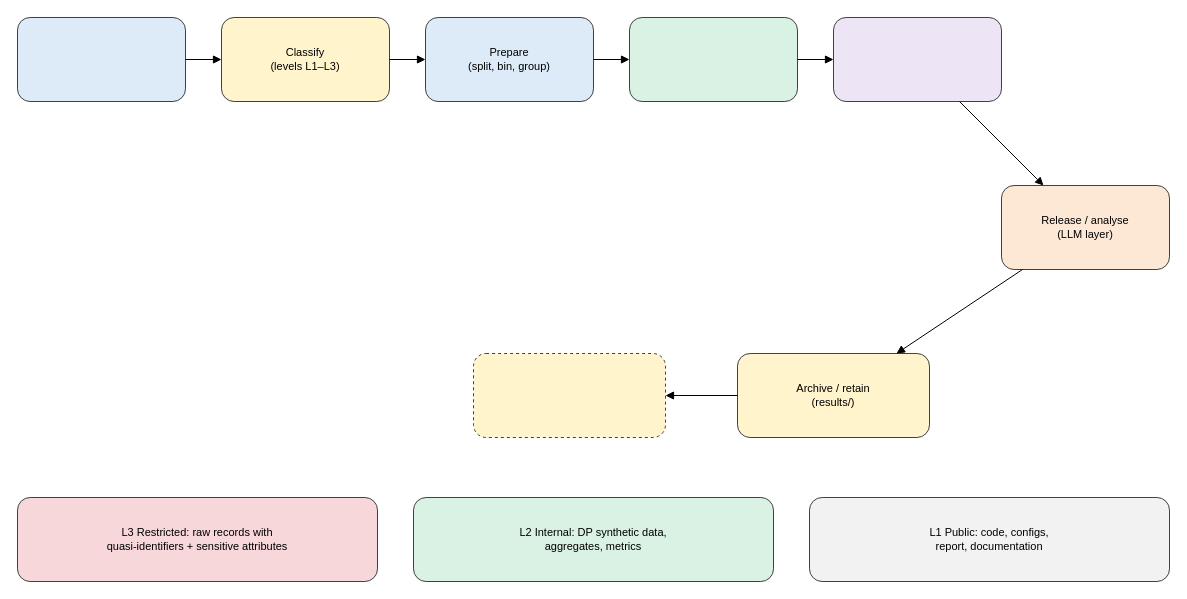
The diagram is 1187 pixels wide and 599 high, and some of its shapes have lost their labels. The shapes that lost their labels are listed below. From the top down, each one's centre as x and y in pixels, then its label:
point (101, 59): Collect (UCI Adult sample)
point (713, 59): Synthesise (DP / non-DP)
point (917, 59): Evaluate (6 dimensions)
point (569, 395): Dispose (raw data off repo in production)
